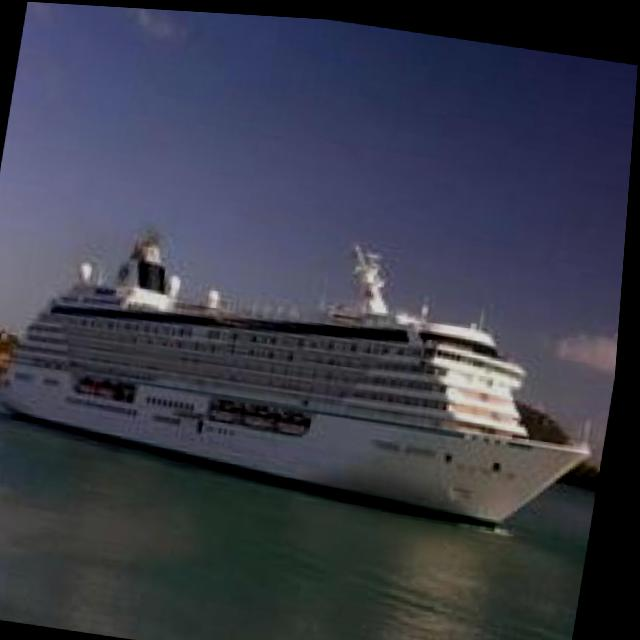ship2: (1, 234, 595, 523)
